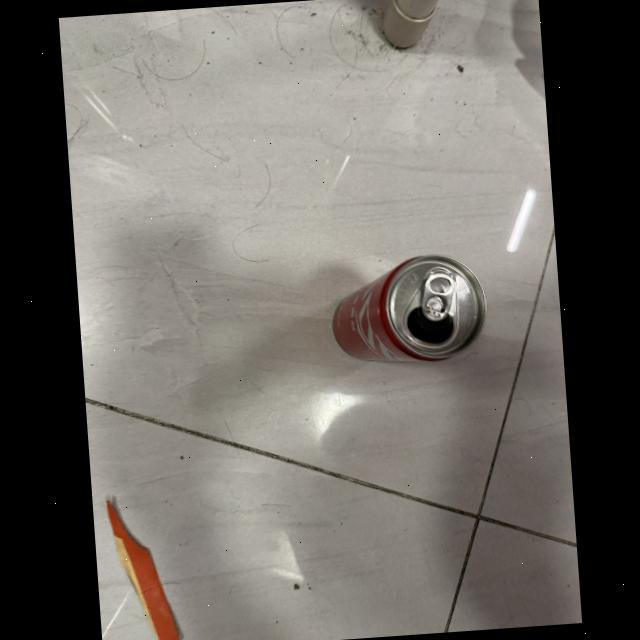Cola: (319, 243, 492, 377)
